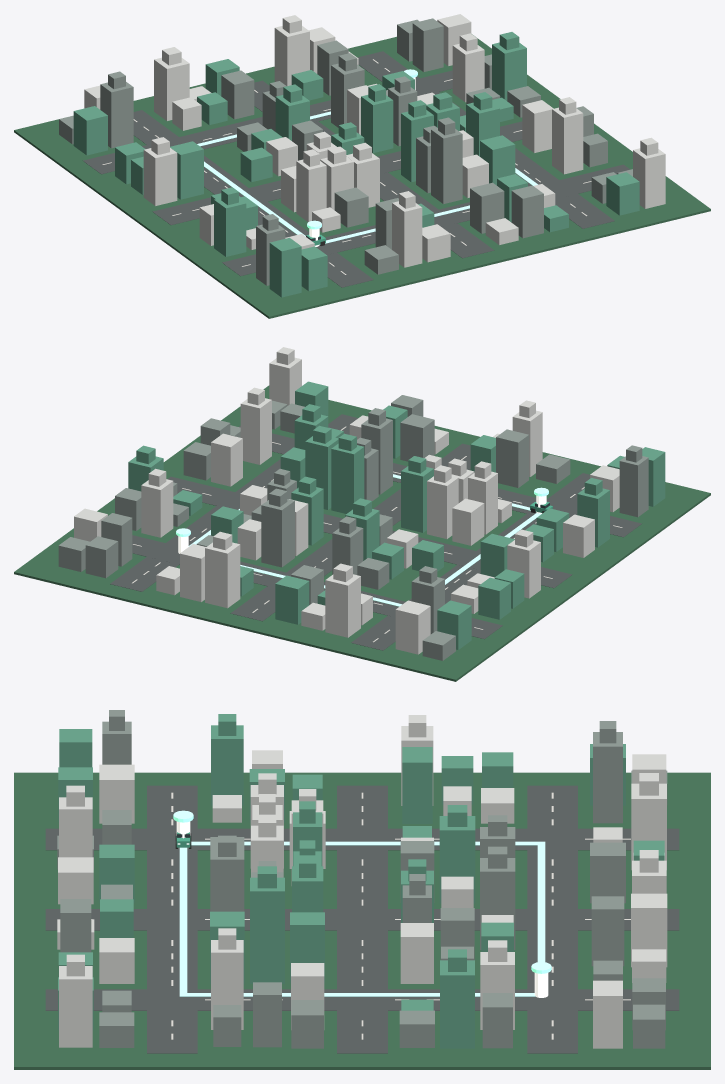
File: curb_city.glb
3 views of the same model, one above another, from view 1: azimuth 30°, elevation 25°; view 2: azimuth 150°, elevation 25°; view 3: azimuth 270°, elevation 25° (orthographic). The views are drawn at different scales.
Parts seen in each view (by area): view 1: City, Route; view 2: City, Route; view 3: City, Route.
Part boxes in pixels (x1,y1,x2,y2): City: [14, 14, 710, 318]; Route: [197, 69, 537, 246]; City: [14, 347, 710, 681]; Route: [176, 474, 548, 606]; City: [14, 710, 710, 1069]; Route: [173, 810, 551, 997].
Bounding box in the file's own units: 22 × 3.82 × 22.
